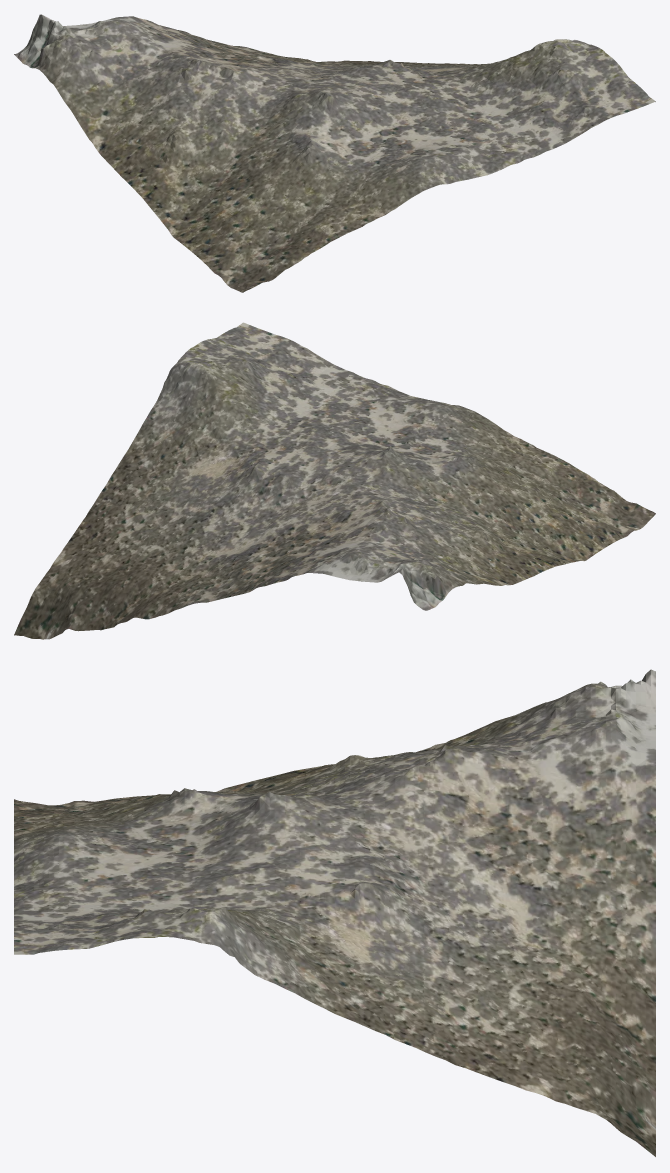
3 renders of one model, top to bottom at view 1: azimuth 30°, elevation 25°; view 2: azimuth 150°, elevation 25°; view 3: azimuth 270°, elevation 25°, orthographic. The views are drawn at different scales.
Size of the model in its own units: 500 by 188 by 481.
Materials: 1 (1 with a texture image).
